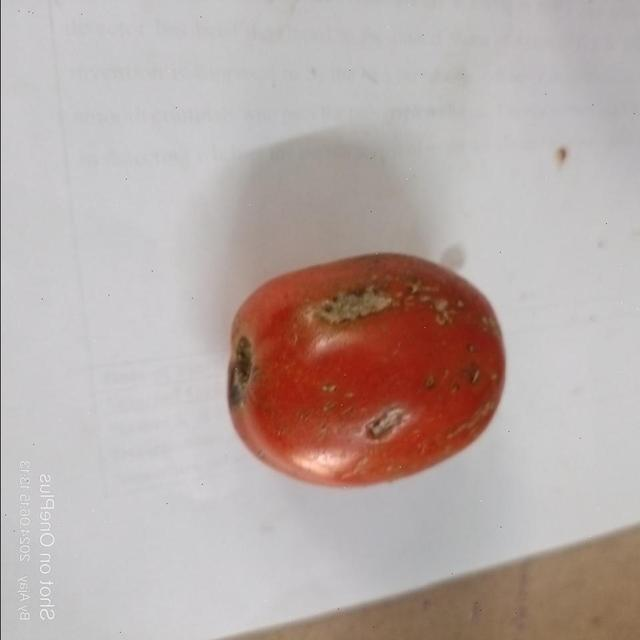Bacterial Spot Fruit: (15, 15, 316, 284)
